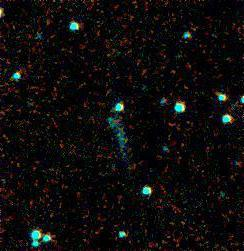star: (101, 106, 131, 136)
